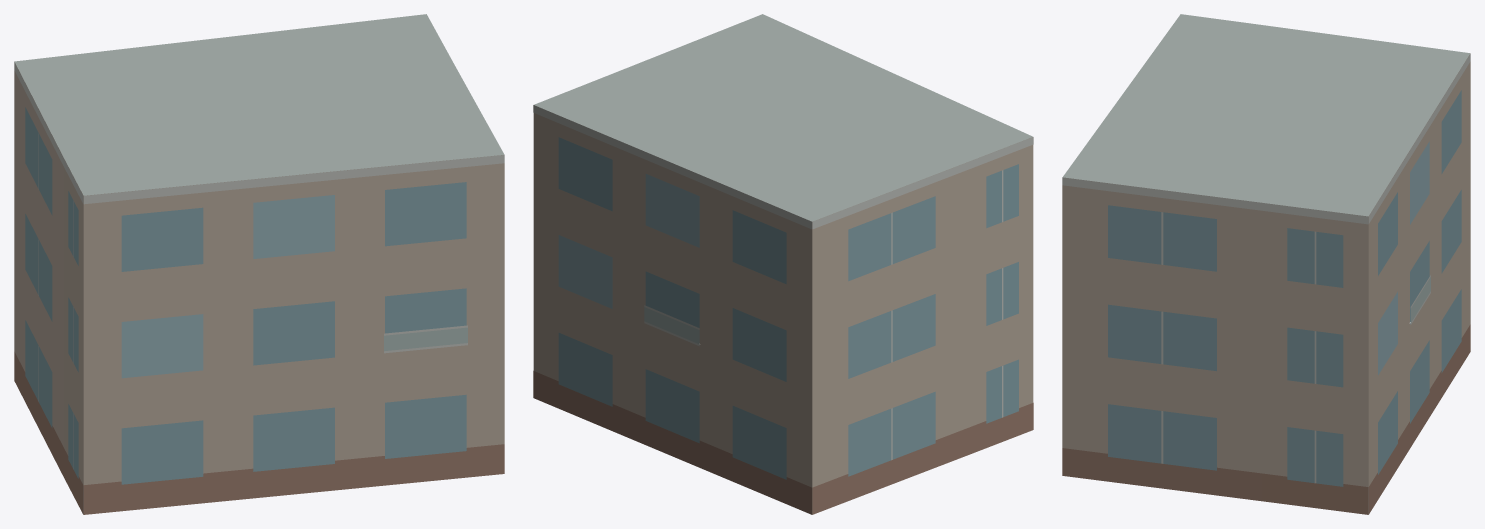
Rendered from survey-upis-32896231.glb.
The picture shows the model from 3 angles, left to right: view 1: azimuth 30°, elevation 25°; view 2: azimuth 150°, elevation 25°; view 3: azimuth 270°, elevation 25°; orthographic projection. The views are drawn at different scales.
Parts seen in each view (by area): view 1: survey-upis-32896231.tmp; view 2: survey-upis-32896231.tmp; view 3: survey-upis-32896231.tmp.
Boxes of the visible parts, left/top/right/bottom form: survey-upis-32896231.tmp: left=14, top=14, right=504, bottom=514; survey-upis-32896231.tmp: left=533, top=14, right=1033, bottom=514; survey-upis-32896231.tmp: left=1062, top=14, right=1470, bottom=514.
Size of the model in its own units: 13.32 by 9.15 by 11.35.
